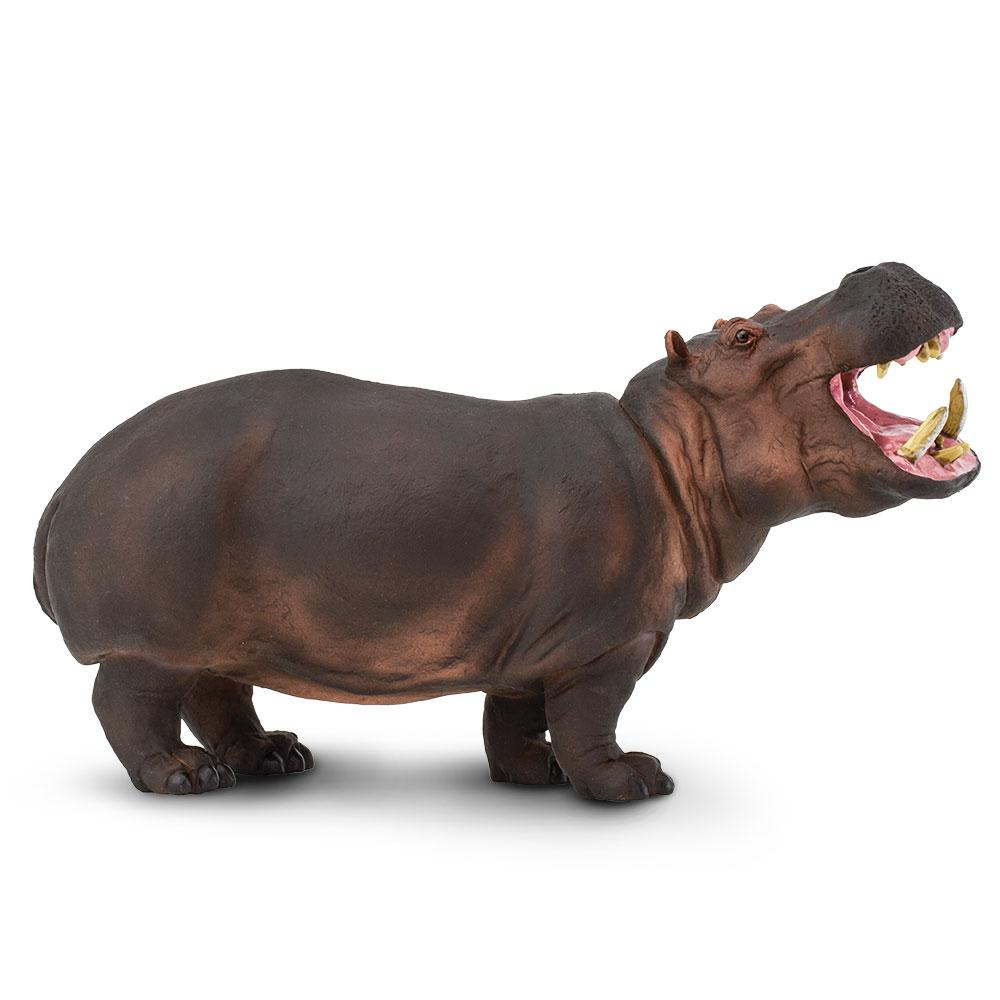Hippopotamus: (27, 258, 985, 805)
